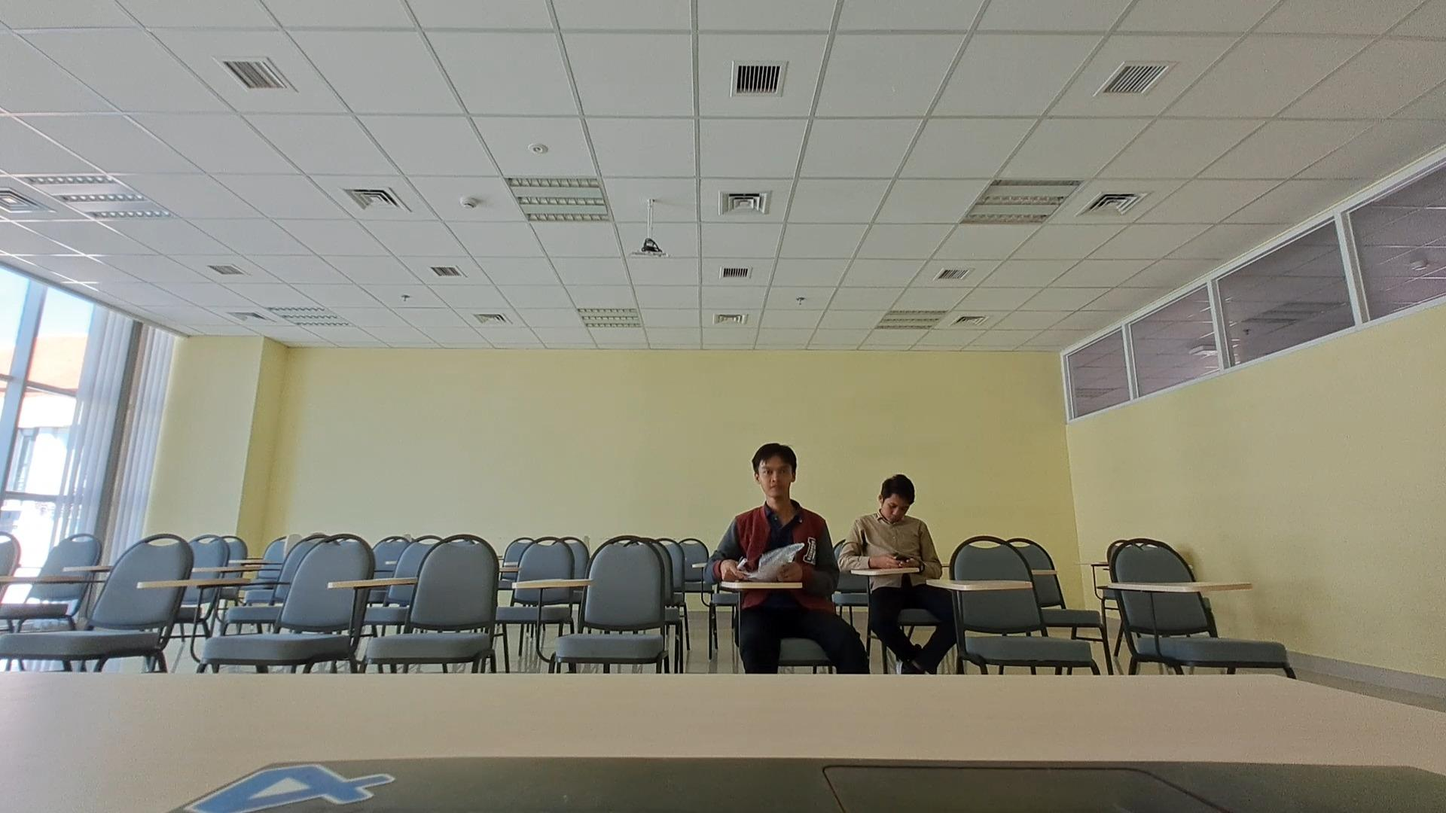phone: (841, 475, 942, 575)
study: (706, 442, 841, 590)
